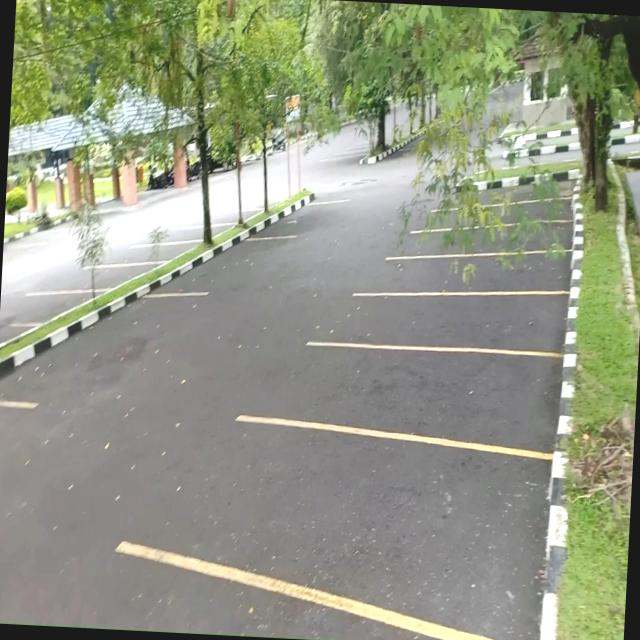free: (180, 425, 547, 640), (250, 342, 561, 459), (0, 290, 211, 422), (358, 284, 566, 356), (398, 246, 572, 303), (181, 234, 289, 301), (12, 290, 87, 330), (62, 260, 144, 295), (275, 200, 337, 240), (120, 240, 189, 265), (166, 223, 232, 246)
